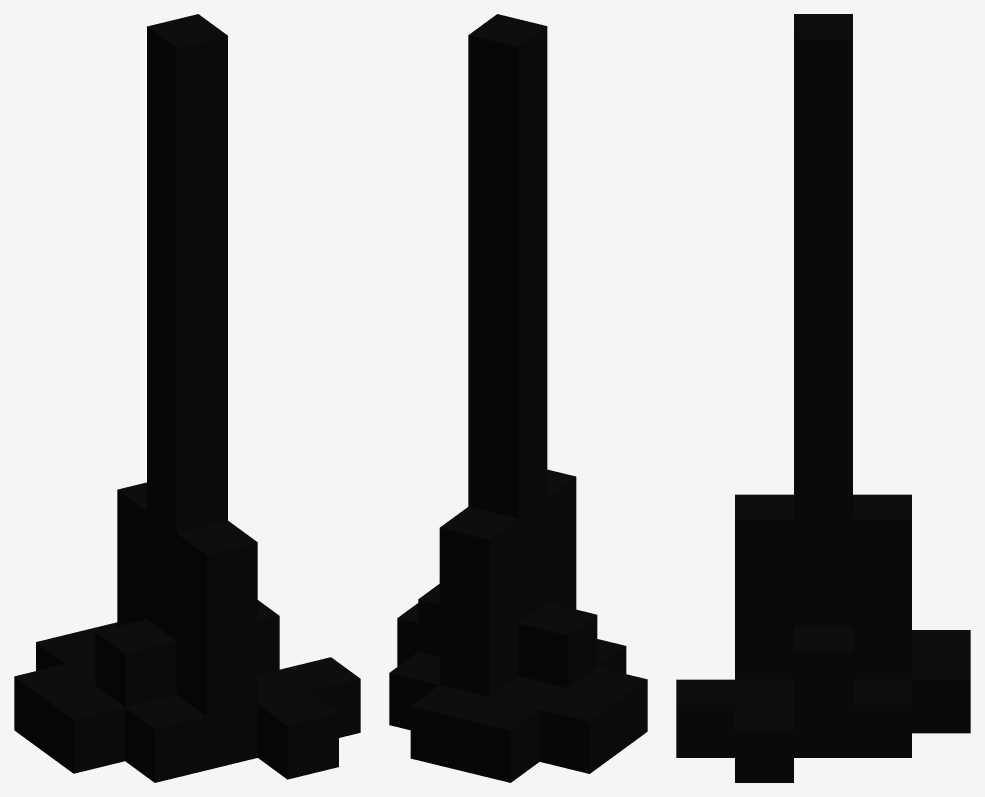
The model's file is church-72-shovel.glb.
3 renders of one model, left to right at view 1: azimuth 30°, elevation 25°; view 2: azimuth 150°, elevation 25°; view 3: azimuth 270°, elevation 25°, orthographic. The views are drawn at different scales.
Visible parts, largest first — view 1: shovel; view 2: shovel; view 3: shovel.
Part boxes in pixels (bbox=[...]): shovel: bbox=[14, 14, 360, 782]; shovel: bbox=[389, 14, 647, 782]; shovel: bbox=[676, 14, 970, 782].
Size of the model in its own units: 0.5 by 1.3 by 0.5.
1 material, 1 textured.
